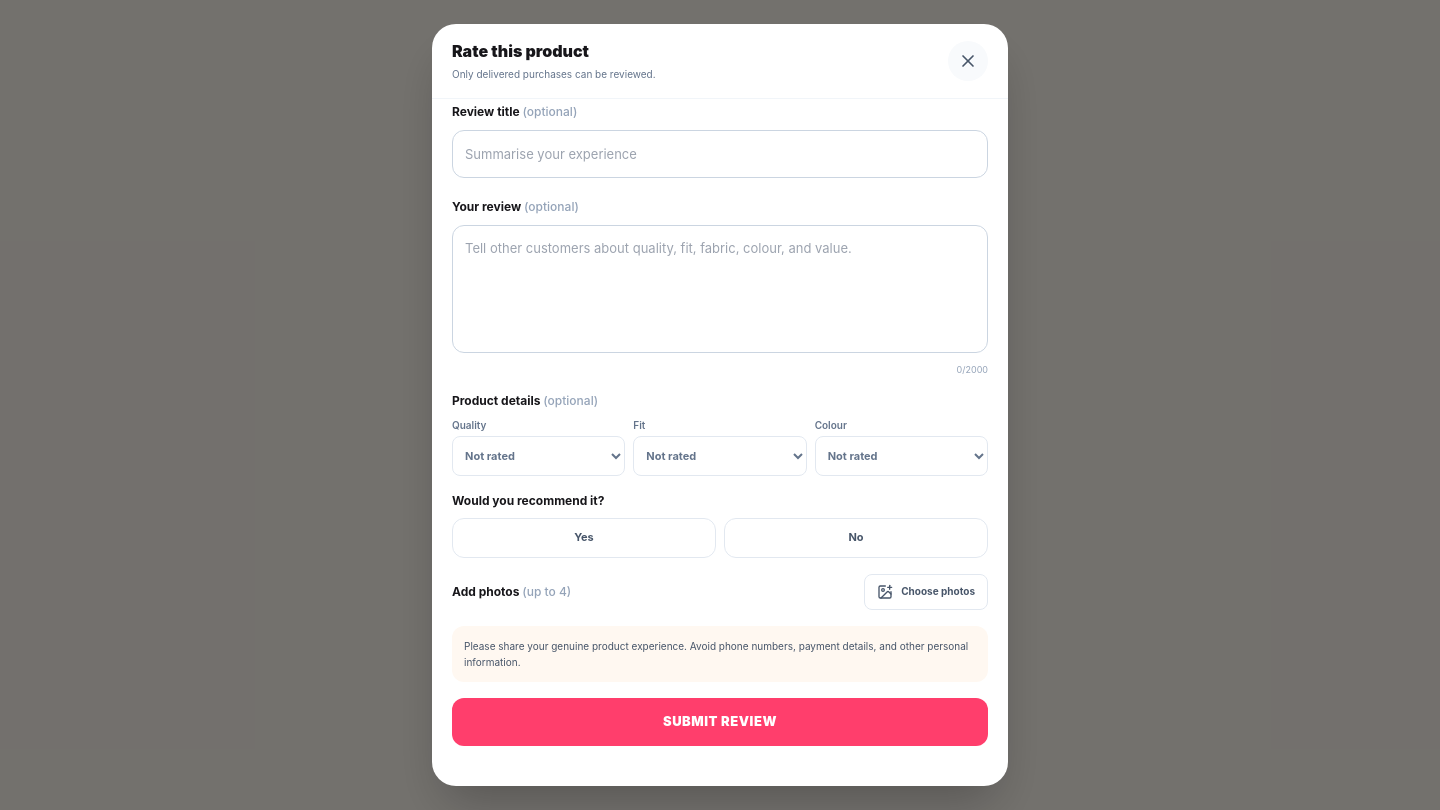
Test: ReviewModal › requires a star rating and submits trimmed review content
(page scrolled)
Click the button "Submit review" at {"x": 720, "y": 722}, box [452,698,988,746]
(page scrolled)
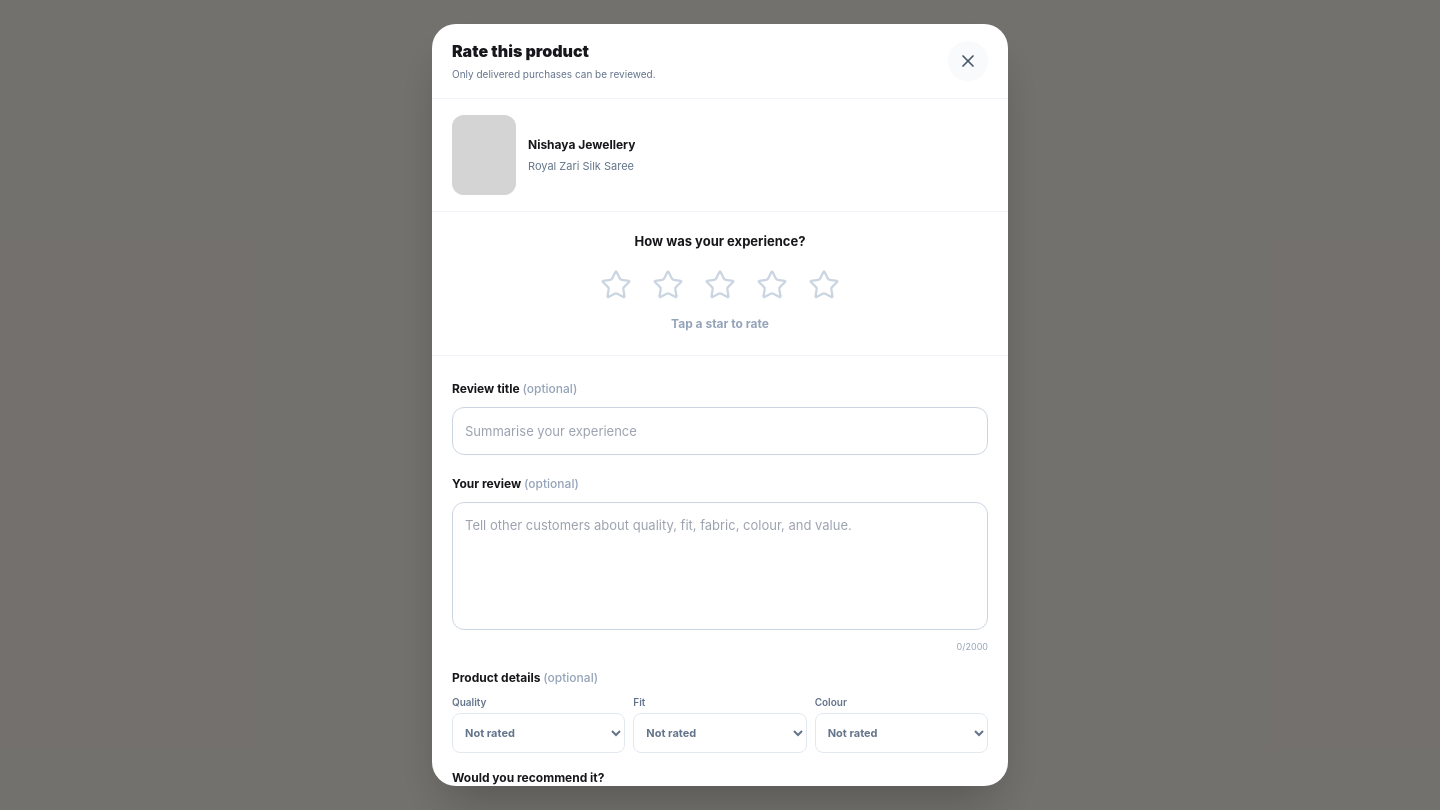
Click the button named "5 stars — Excellent" at {"x": 824, "y": 285}, box [802,263,846,307]
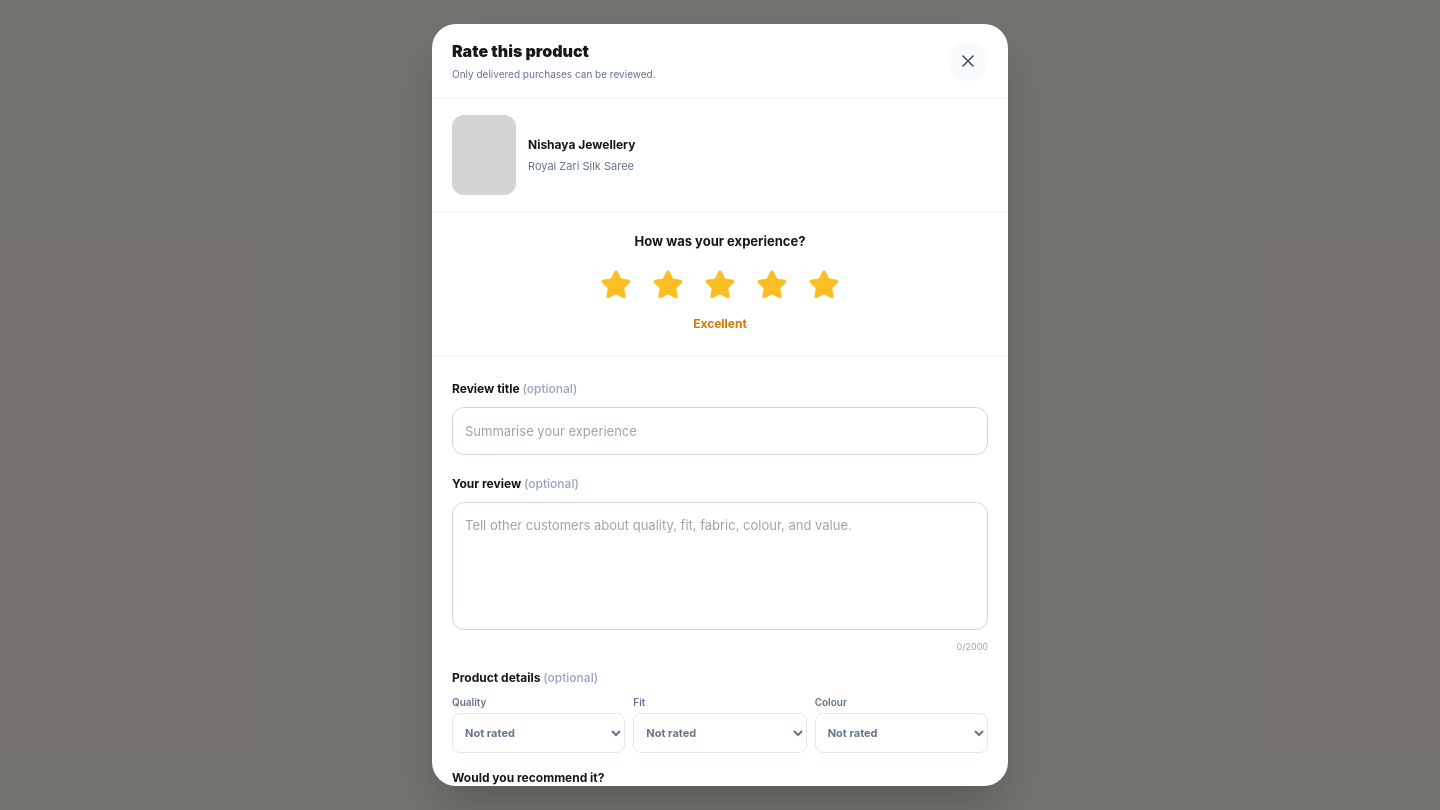
Type "  Beautiful saree  " into the field with placeholder "Summarise your experience" at {"x": 720, "y": 431}, box [452,407,988,455]
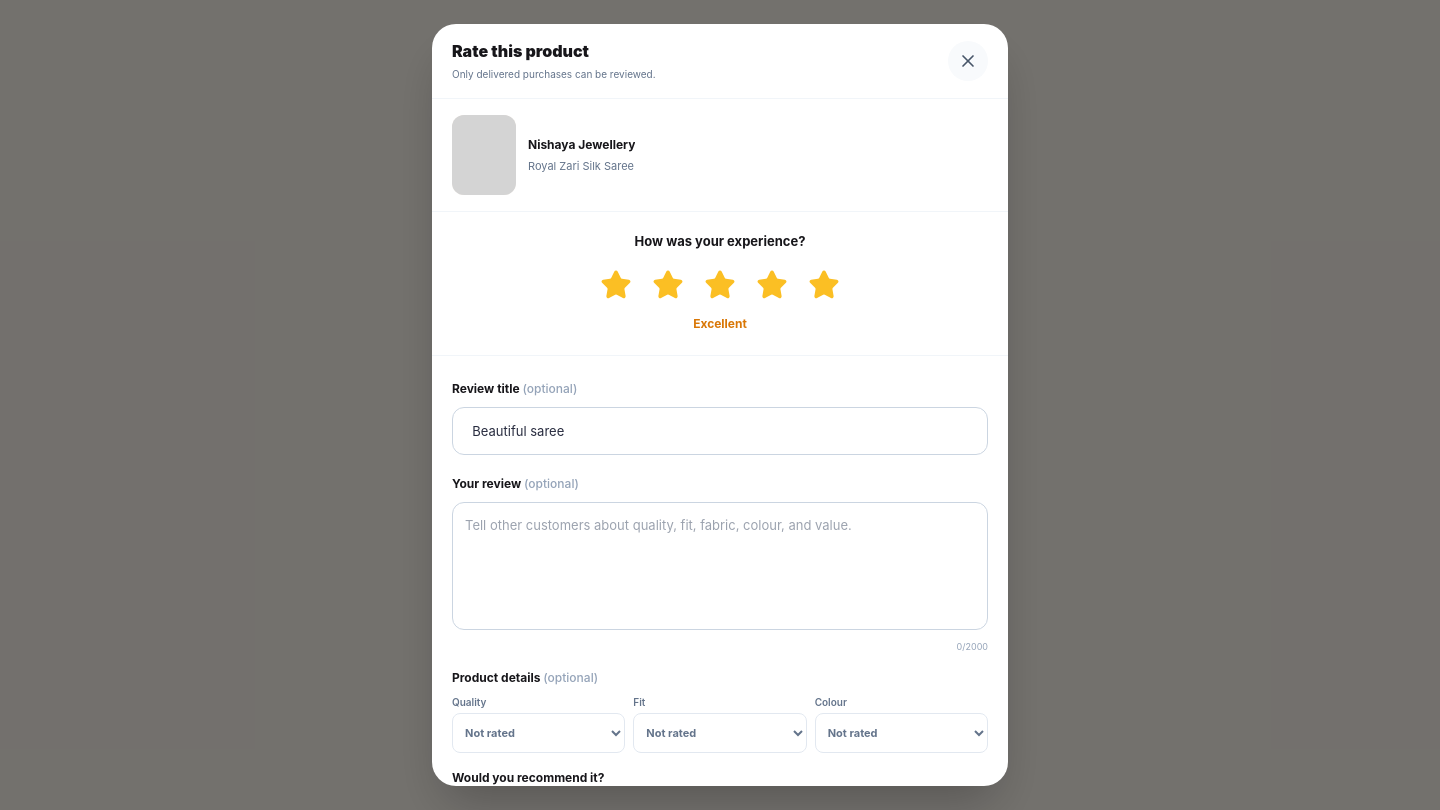
Replace the text in the text box with placeholder "Tell other customers" with "  Great fabric and finish.  " at {"x": 720, "y": 566}, box [452,502,988,630]
(page scrolled)
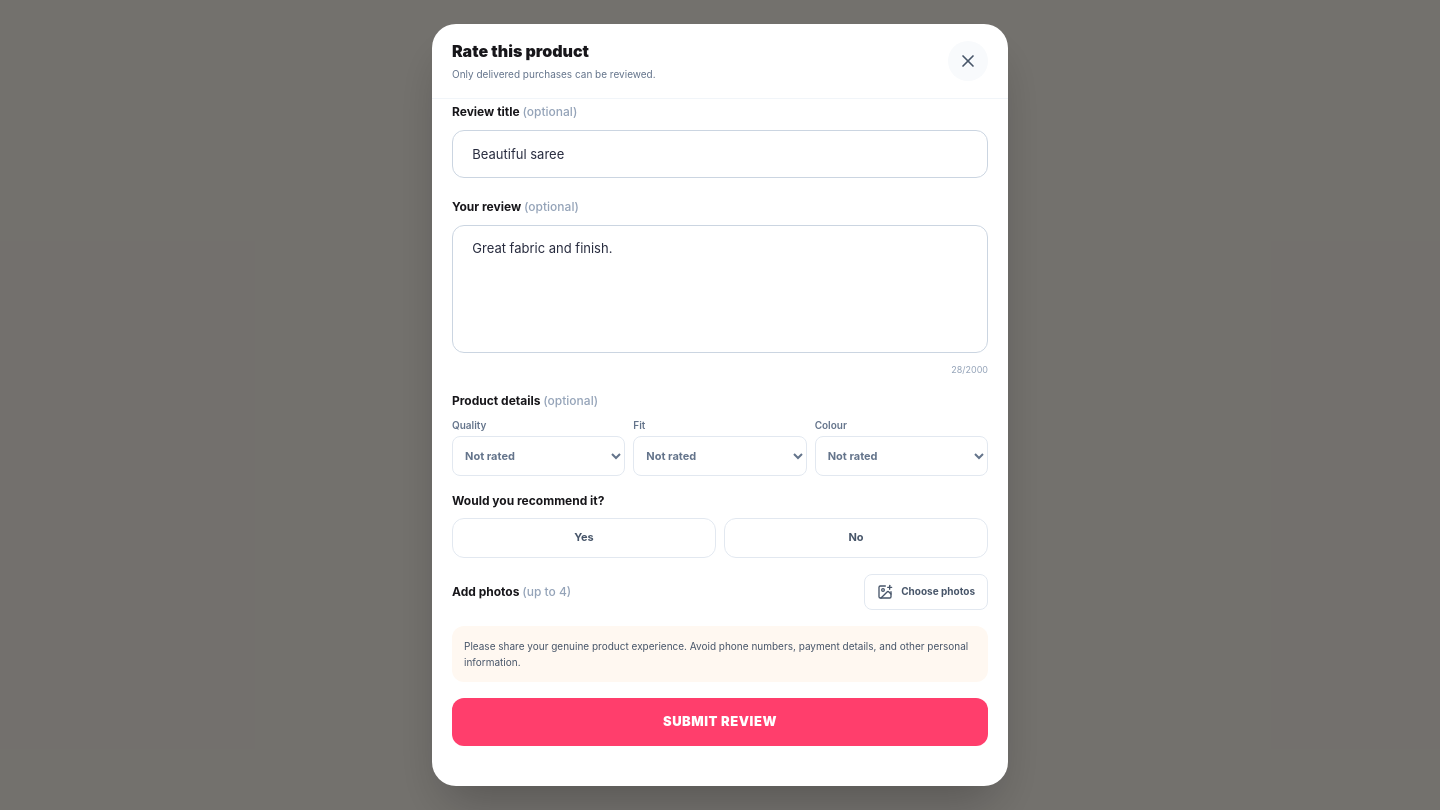
Click the button "Submit review" at {"x": 720, "y": 722}, box [452,698,988,746]
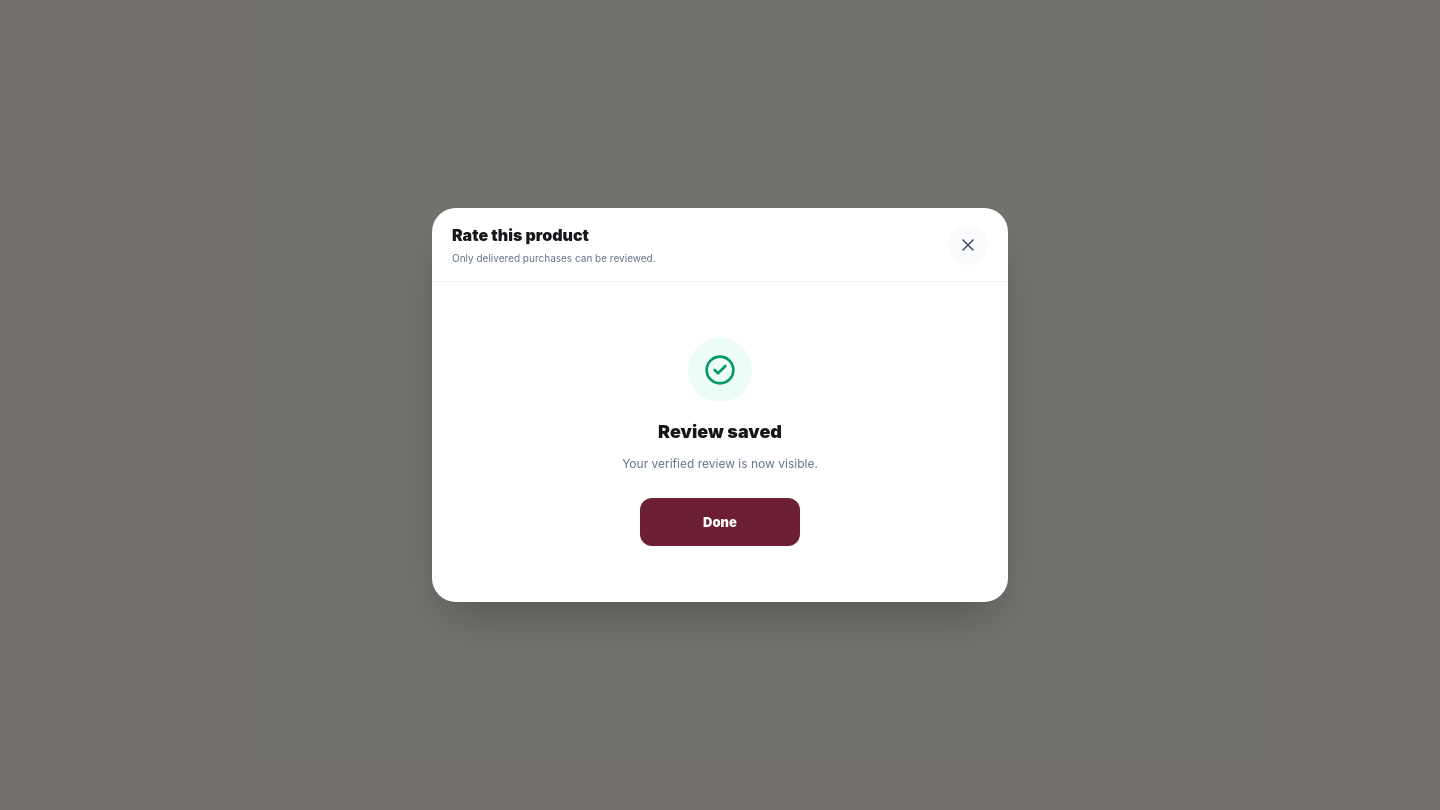
Check: the heading "Review saved" is shown, box [658,421,782,442]
Check: the text "Your verified review is now visible." is shown, box [622,454,818,474]
